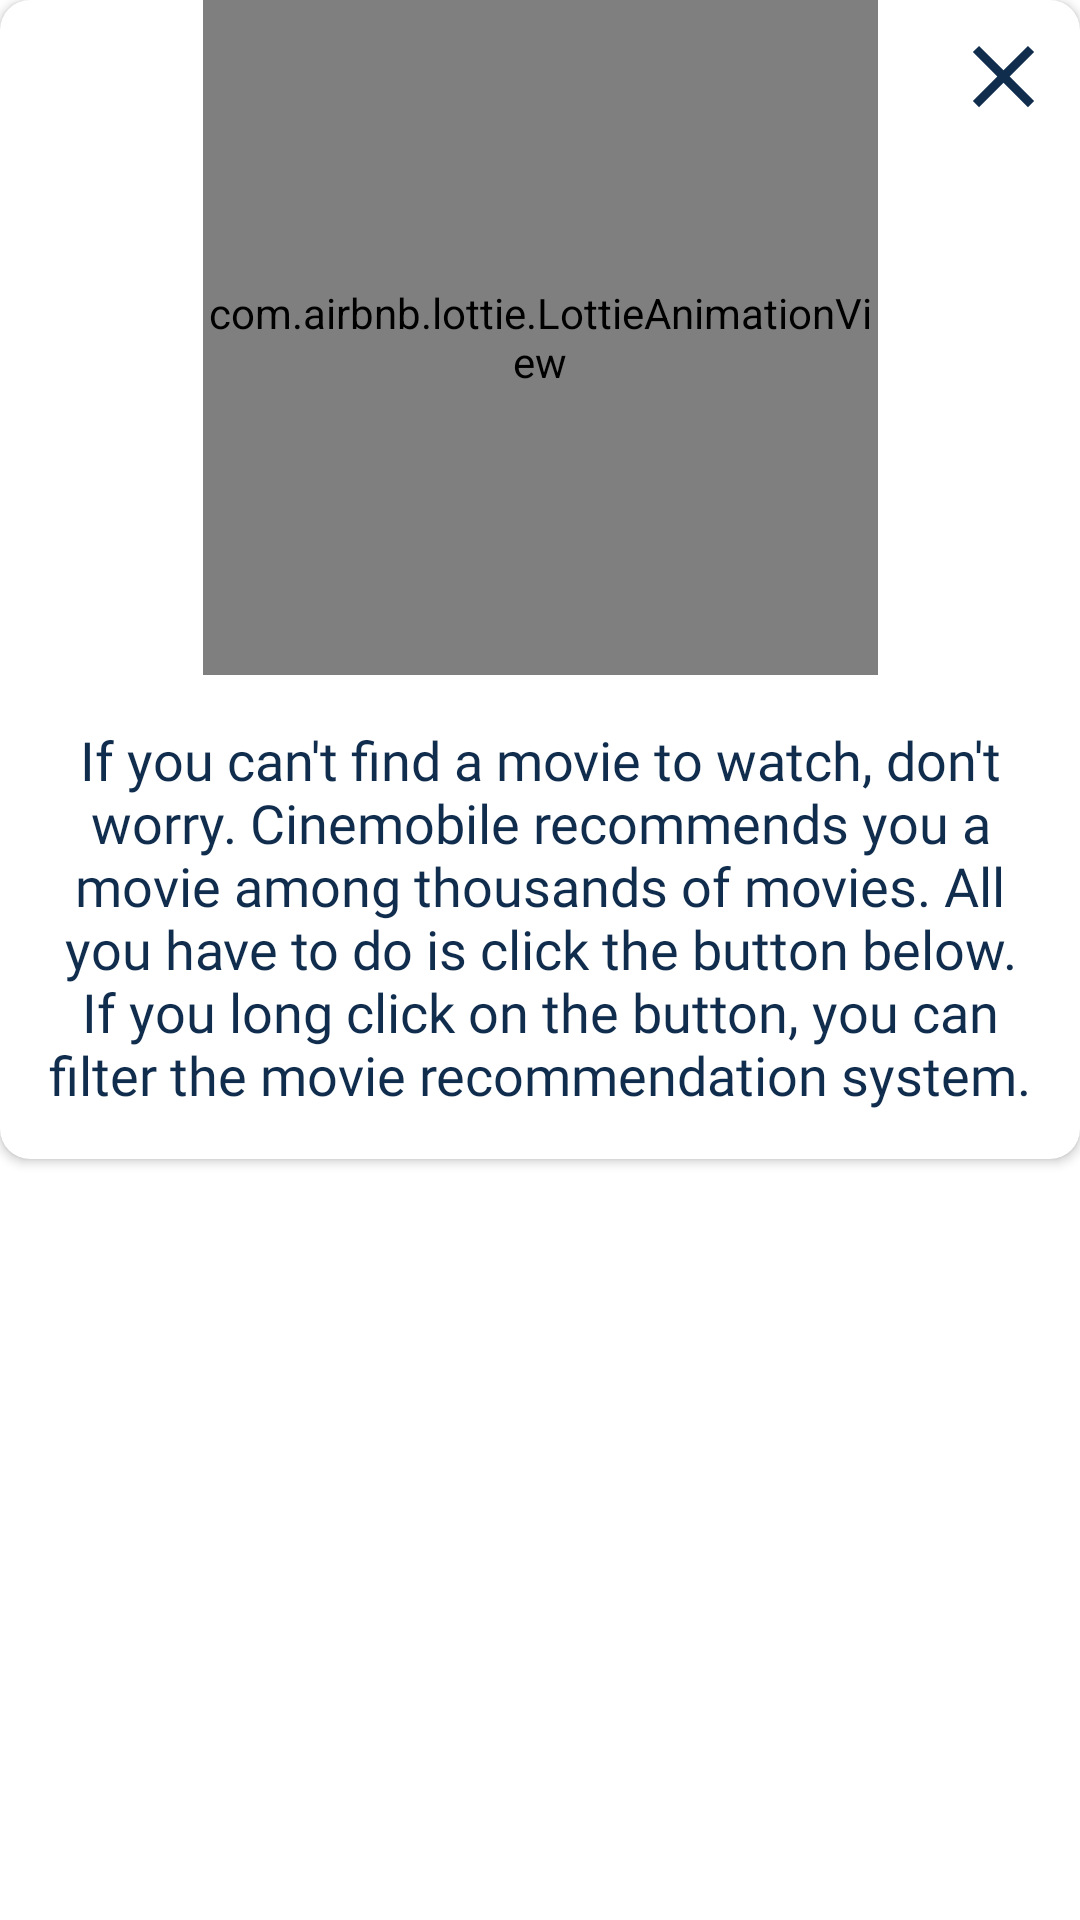

Icons on this 1080 × 1920 Android screen, each with its box as (x1, y1, x2, y2):
cancel: (973, 46, 1034, 107)
